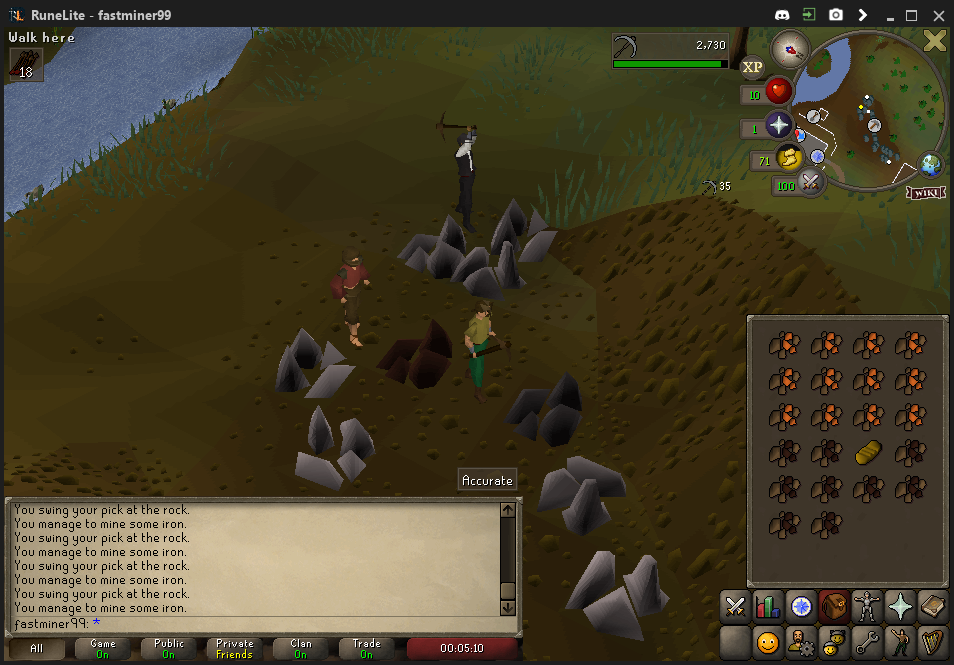depleted: (506, 368, 591, 443)
ore: (377, 317, 450, 387)
